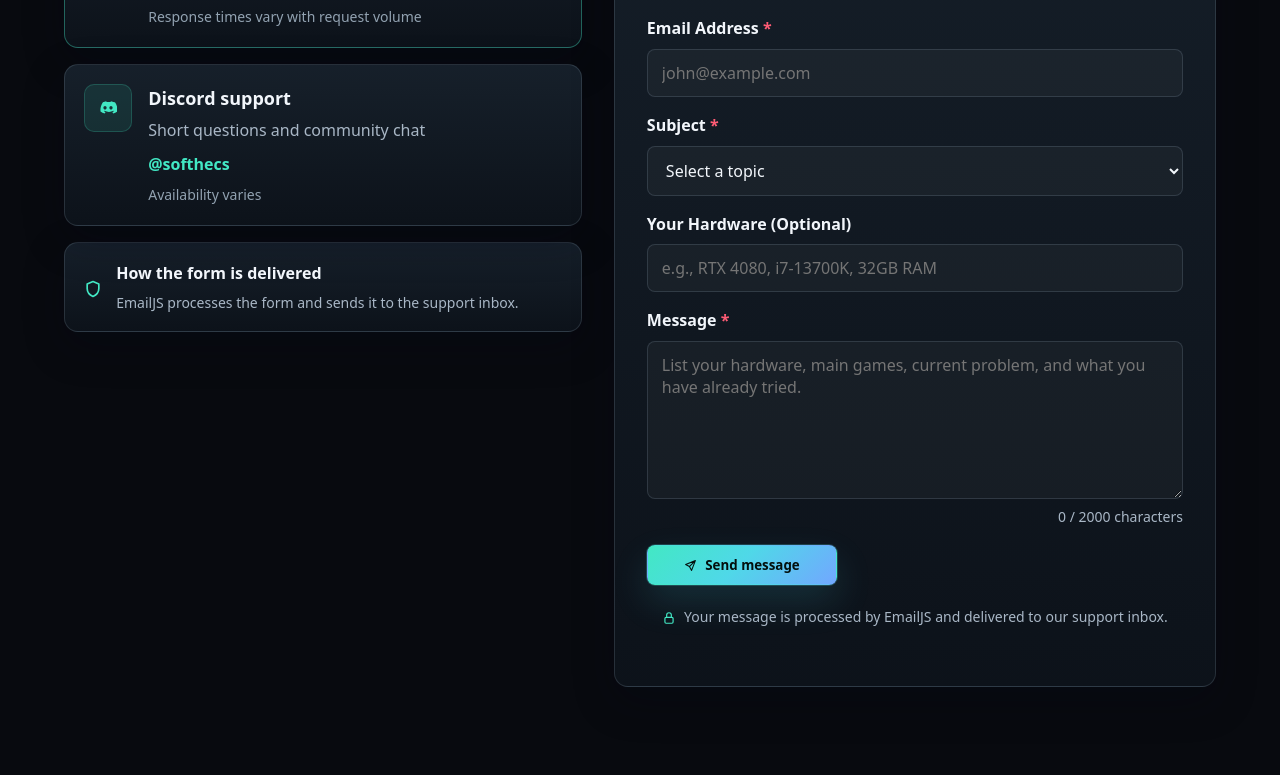
Test case: Contact Component › Form Validation › should show error for empty name
This screenshot has width=1280, height=775.
(page scrolled)
Click the button "Send message": (742, 565) [647,545,837,586]
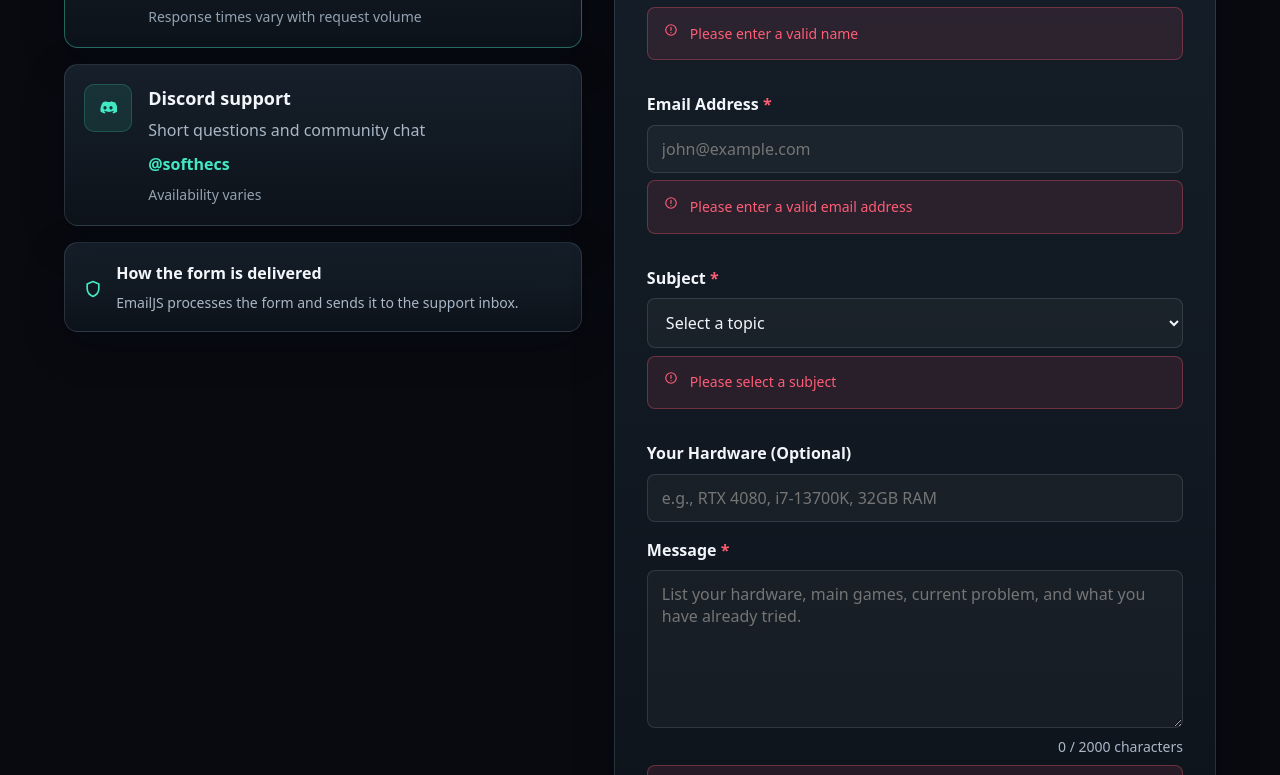
Result: the message "Please enter a valid name" is shown at [647,7,1183,60]
